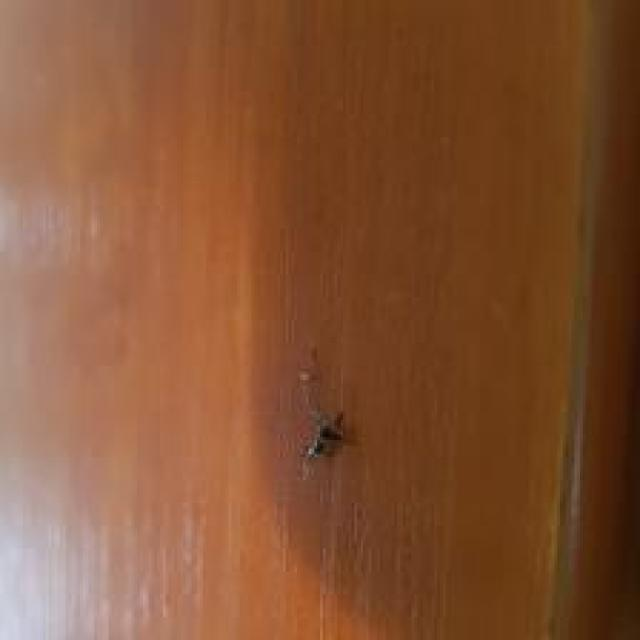Aedes albopictus: (302, 409, 347, 460)
